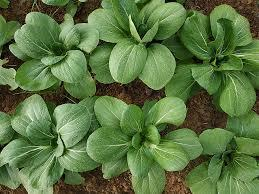Healthy-Pechay: (3, 4, 259, 103), (9, 102, 259, 192)
